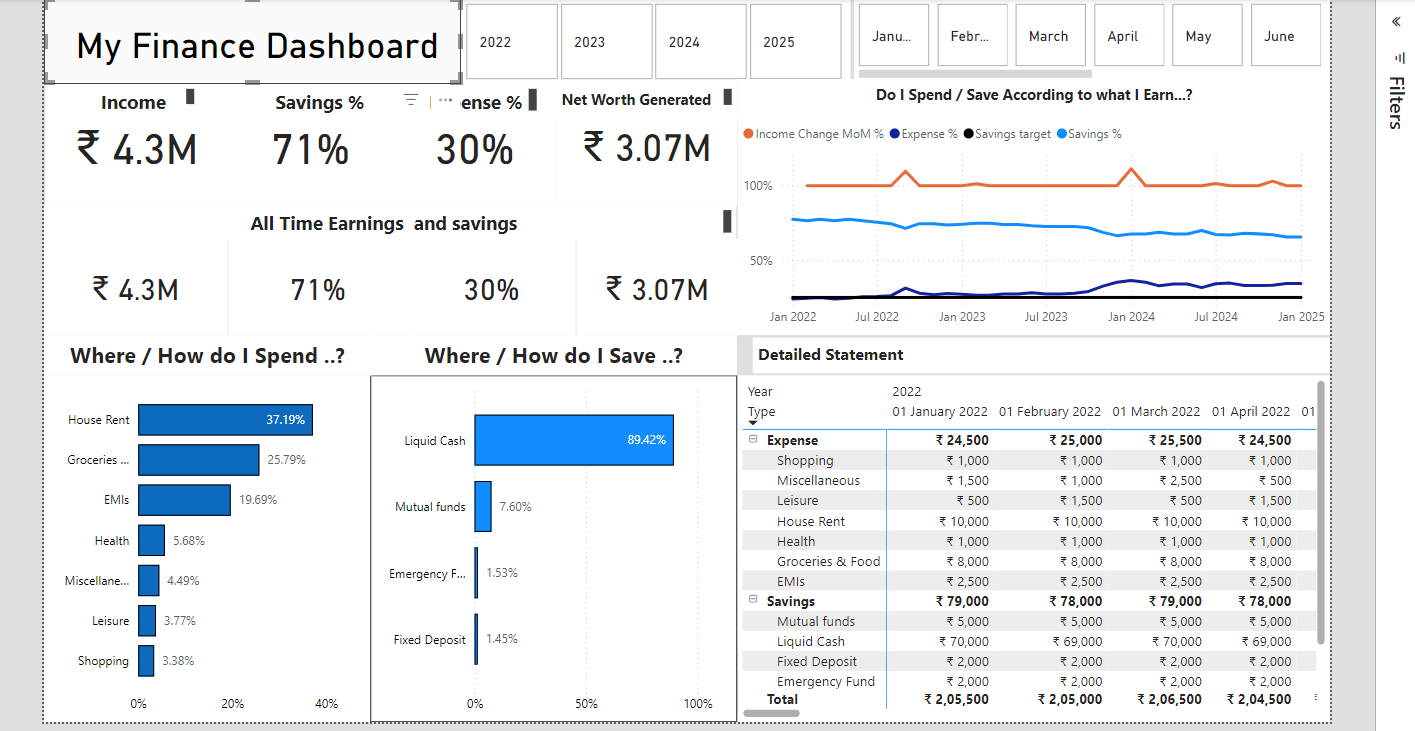

This screenshot's page, from the dashboard's own definition file:
{"tool":"powerbi","page":{"name":"My Finanace Dashboard","canvas":[1280,720],"ordinal":0},"visuals":[{"type":"card","fields":{"Values":["Key Measures.Title"]},"box":[0,0,415.8,85.1],"z":0},{"type":"card","fields":{"Values":["Key Measures.Total Income"]},"box":[1.4,85.1,182.5,120.8],"z":1000},{"type":"card","fields":{"Values":["Key Measures.Savings %"]},"box":[182.5,85.1,164.7,120.8],"z":2000},{"type":"card","fields":{"Values":["Key Measures.Expense %"]},"box":[347.2,85.1,163.3,120.8],"z":3000},{"type":"card","fields":{"Values":["Key Measures.Total Saving"]},"box":[510.5,85.1,179.8,120.8],"z":4000},{"type":"card","fields":{"Values":["Key Measures.Total Income"]},"box":[0,238.8,182.5,96.1],"z":5000},{"type":"card","fields":{"Values":["Key Measures.Savings %"]},"box":[182.5,238.8,179.8,96.1],"z":6000},{"type":"card","fields":{"Values":["Key Measures.Expense %"]},"box":[362.3,238.8,167.4,96.1],"z":7000},{"type":"card","fields":{"Values":["Key Measures.Total Saving"]},"box":[529.7,238.8,160.5,96.1],"z":8000},{"type":"advancedSlicerVisual","fields":{"Values":["FinData.Year"]},"box":[415.8,0,387,85.1],"z":9000},{"type":"advancedSlicerVisual","fields":{"Values":["FinData.Date.Variation.Date Hierarchy.Month"]},"box":[805.5,0,474.8,85.1],"z":10000},{"type":"barChart","fields":{"Category":["FinData.Component"],"Y":["Key Measures.Total Expense"]},"box":[0,374.6,325.2,345.8],"z":11000},{"type":"barChart","fields":{"Category":["FinData.Component"],"Y":["Key Measures.Total Saving"]},"box":[325.2,374.6,365,345.8],"z":12000},{"type":"lineChart","fields":{"Y":["Key Measures.Income Change MoM %","Key Measures.Expense %","Key Measures.Savings target","Key Measures.Savings %"],"Category":["FinData.Date"]},"box":[690.4,114.4,589.6,220.2],"z":13000},{"type":"pivotTable","fields":{"Columns":["FinData.Year","FinData.Date"],"Values":["Key Measures.Values"],"Rows":["Type.Type","FinData.Component"]},"box":[690.4,374.4,589.6,345.8],"z":14000},{"type":"textbox","box":[31.6,85.1,123.5,30.2],"z":15000},{"type":"textbox","box":[207.2,85.1,133.1,39.8],"z":16000},{"type":"textbox","box":[510.5,85.1,179.8,39.8],"z":17000},{"type":"textbox","box":[371.9,84.6,123.2,39.8],"z":18000},{"type":"textbox","box":[0,205.3,689.2,33.6],"z":19000},{"type":"textbox","box":[0,334.8,325.2,39.8],"z":20000},{"type":"textbox","box":[325.2,334.8,365,39.8],"z":21000},{"type":"textbox","box":[705.3,79.6,574.7,34.8],"z":21001},{"type":"textbox","box":[690.4,79.6,589.6,34.8],"z":21002},{"type":"textbox","box":[705.3,337.1,574.7,34.8],"z":21003}]}

Visuals, with their boxes on the page's 1280x720 design canvas (x1, y1, x2, y2). These are canvas units, not pixel positions in the 1415x731 screenshot, which may show the page scaled, cropped or inside an application window:
card - Key Measures.Title: x1=0 y1=0 x2=416 y2=85
card - Key Measures.Total Income: x1=1 y1=85 x2=184 y2=206
card - Key Measures.Savings %: x1=182 y1=85 x2=347 y2=206
card - Key Measures.Expense %: x1=347 y1=85 x2=510 y2=206
card - Key Measures.Total Saving: x1=510 y1=85 x2=690 y2=206
card - Key Measures.Total Income: x1=0 y1=239 x2=182 y2=335
card - Key Measures.Savings %: x1=182 y1=239 x2=362 y2=335
card - Key Measures.Expense %: x1=362 y1=239 x2=530 y2=335
card - Key Measures.Total Saving: x1=530 y1=239 x2=690 y2=335
advancedSlicerVisual - FinData.Year: x1=416 y1=0 x2=803 y2=85
advancedSlicerVisual - FinData.Date.Variation.Date Hierarchy.Month: x1=806 y1=0 x2=1280 y2=85
barChart - FinData.Component x Key Measures.Total Expense: x1=0 y1=375 x2=325 y2=720
barChart - FinData.Component x Key Measures.Total Saving: x1=325 y1=375 x2=690 y2=720
lineChart - Key Measures.Income Change MoM % x Key Measures.Expense %: x1=690 y1=114 x2=1280 y2=335
pivotTable - FinData.Year x FinData.Date: x1=690 y1=374 x2=1280 y2=720
textbox: x1=32 y1=85 x2=155 y2=115
textbox: x1=207 y1=85 x2=340 y2=125
textbox: x1=510 y1=85 x2=690 y2=125
textbox: x1=372 y1=85 x2=495 y2=124
textbox: x1=0 y1=205 x2=689 y2=239
textbox: x1=0 y1=335 x2=325 y2=375
textbox: x1=325 y1=335 x2=690 y2=375
textbox: x1=705 y1=80 x2=1280 y2=114
textbox: x1=690 y1=80 x2=1280 y2=114
textbox: x1=705 y1=337 x2=1280 y2=372
